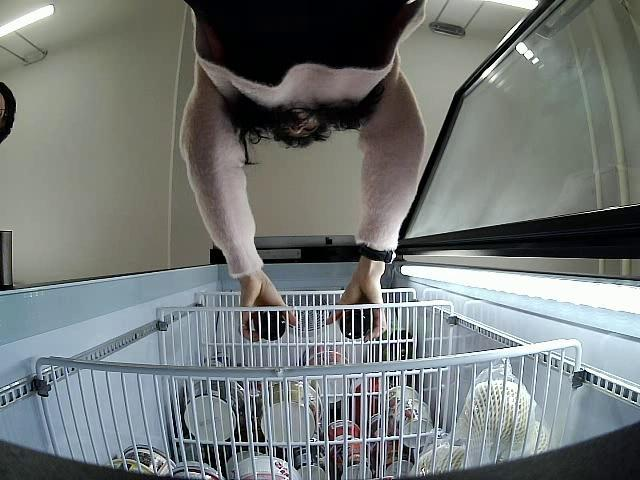17_vita500: (255, 308, 286, 340), (341, 308, 371, 338)
